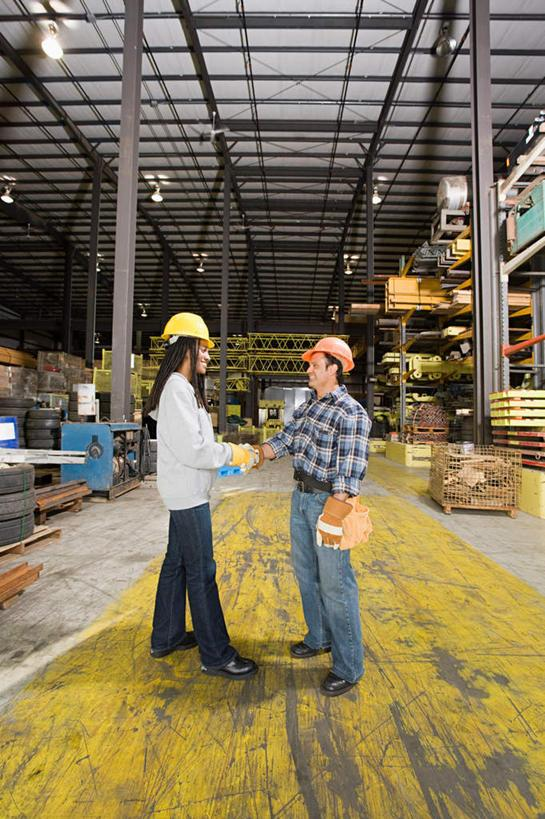helmet: (307, 332, 353, 376), (164, 318, 219, 353)
